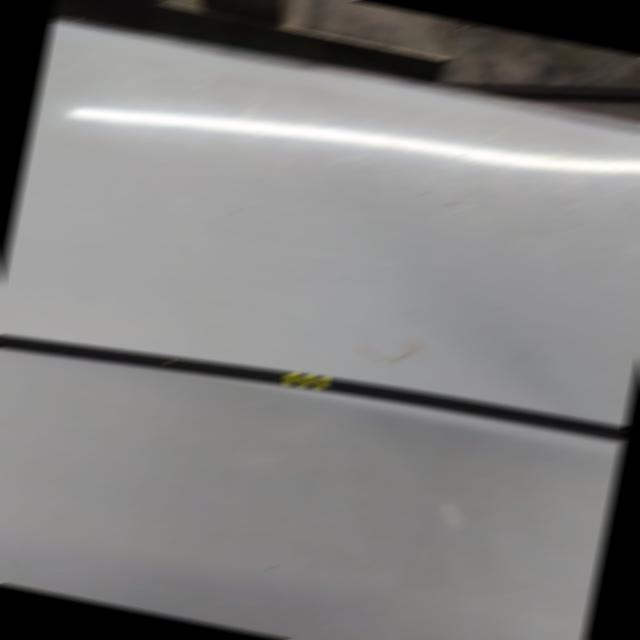yellow: (284, 373, 328, 390)
